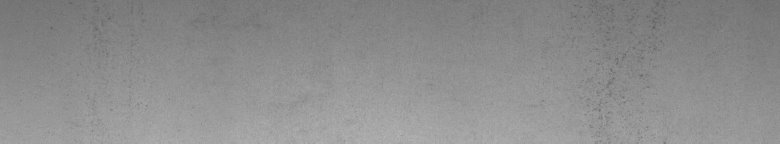ib: (592, 20, 656, 112)
